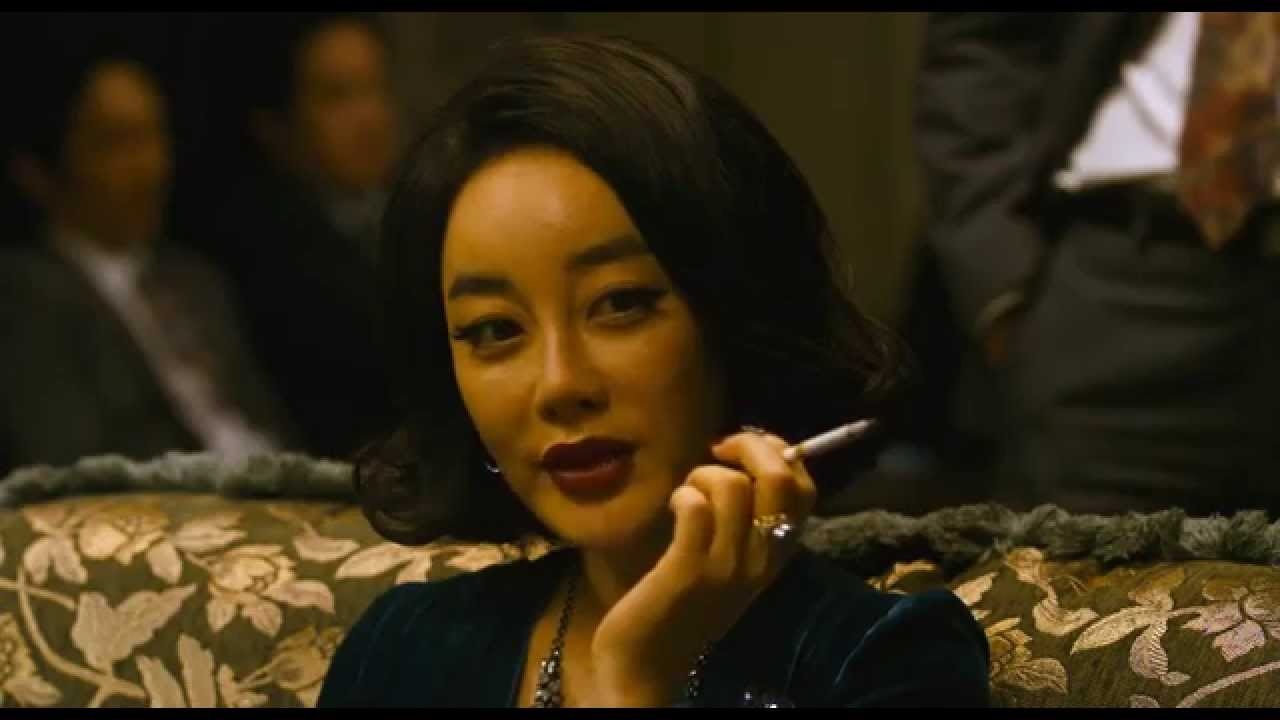cigarette: (763, 401, 880, 466)
